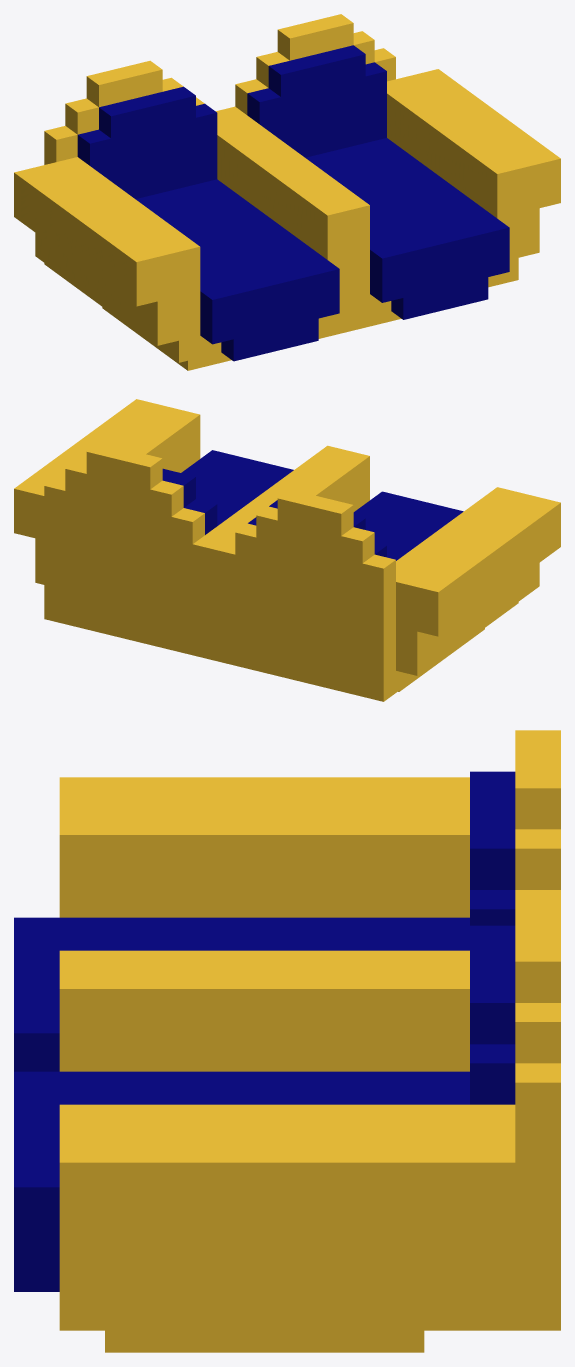
File: couch_golden.obj
3 views of the same model, one above another, from view 1: azimuth 30°, elevation 25°; view 2: azimuth 150°, elevation 25°; view 3: azimuth 270°, elevation 25° (orthographic). The views are drawn at different scales.
Parts seen in each view (by area): view 1: couch_golden; view 2: couch_golden; view 3: couch_golden.
Part boxes in pixels (x1,y1,x2,y2): couch_golden: (14, 14, 560, 370); couch_golden: (14, 399, 560, 701); couch_golden: (14, 730, 560, 1352).
Size of the model in its own units: 20 by 9 by 12.
1 material, 1 textured.
